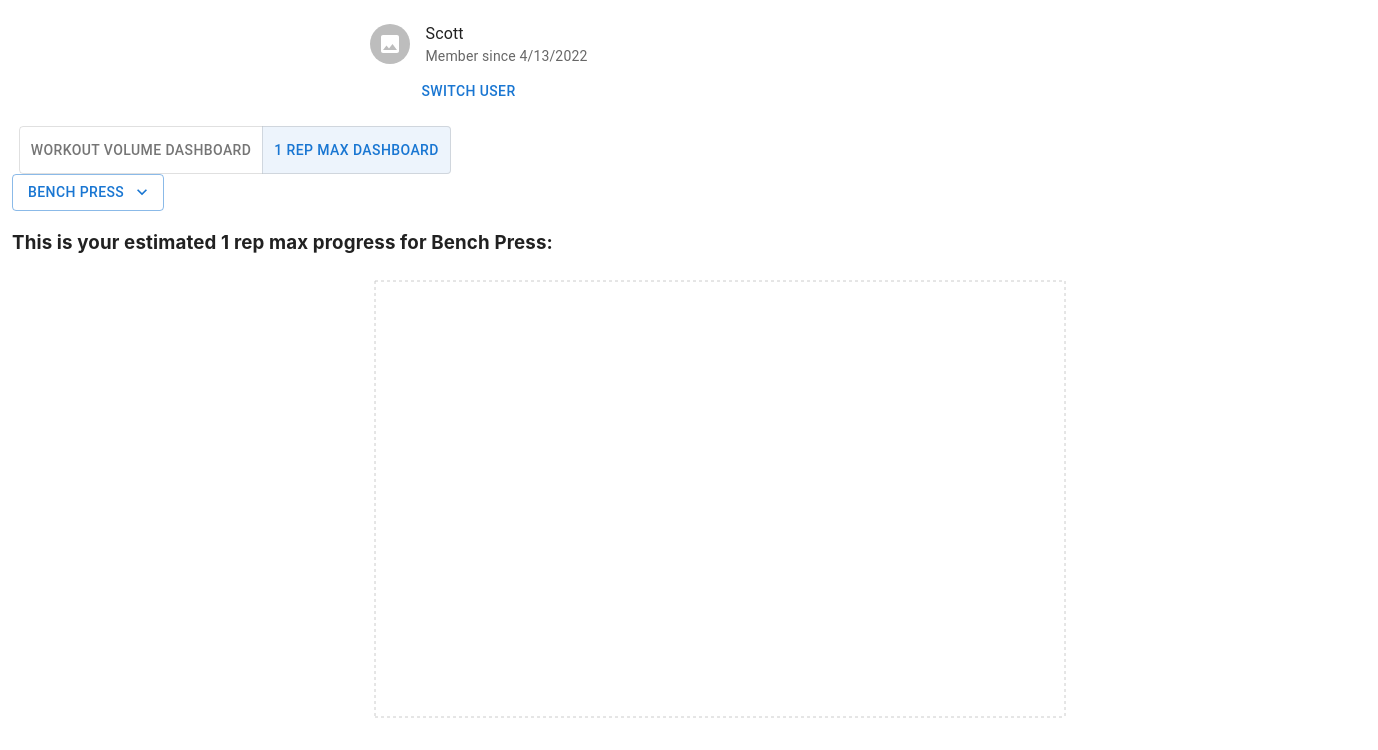
it: Volume dashboard tests › Legs 1 test
Step 1. Click the button with test id "dashboard-toggle-volume" → (141, 150), box [19, 126, 263, 174]
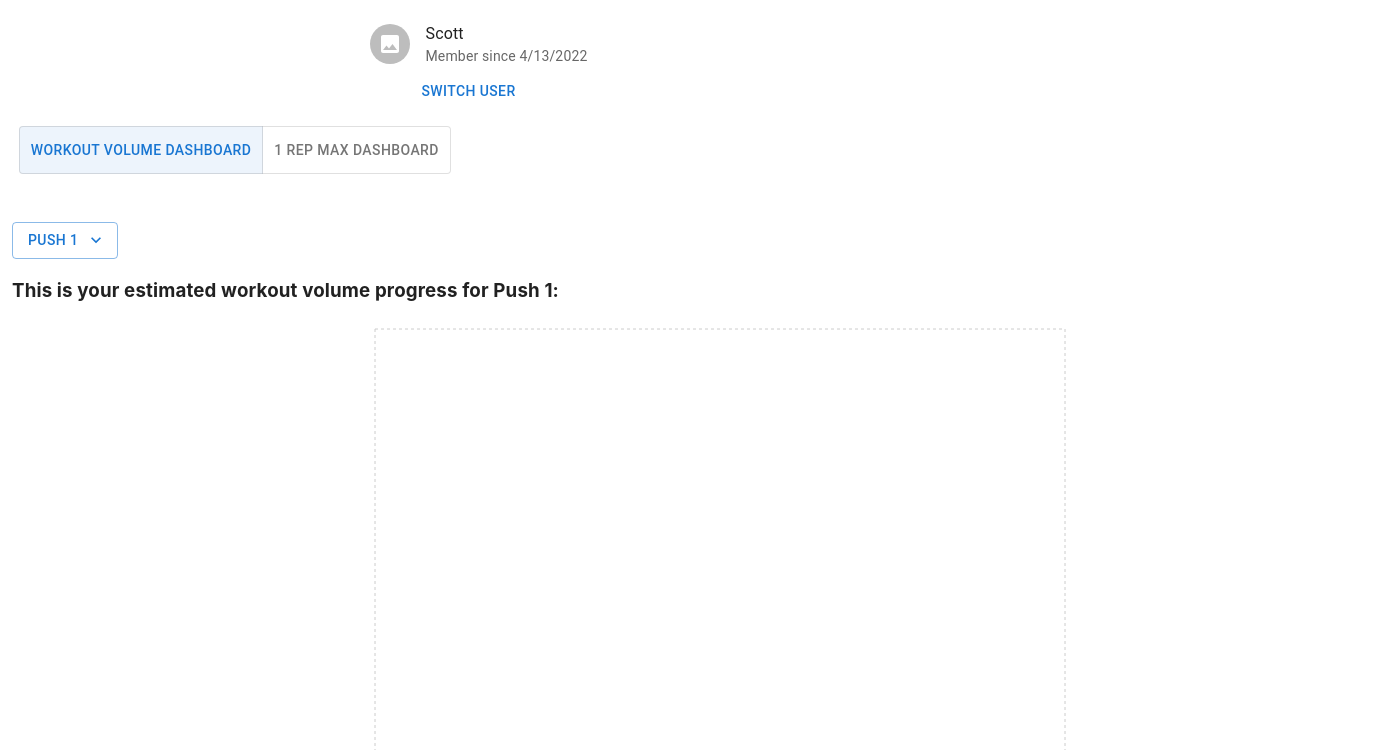
Step 2. Click the button with test id "split-options" → (65, 240), box [12, 222, 118, 258]
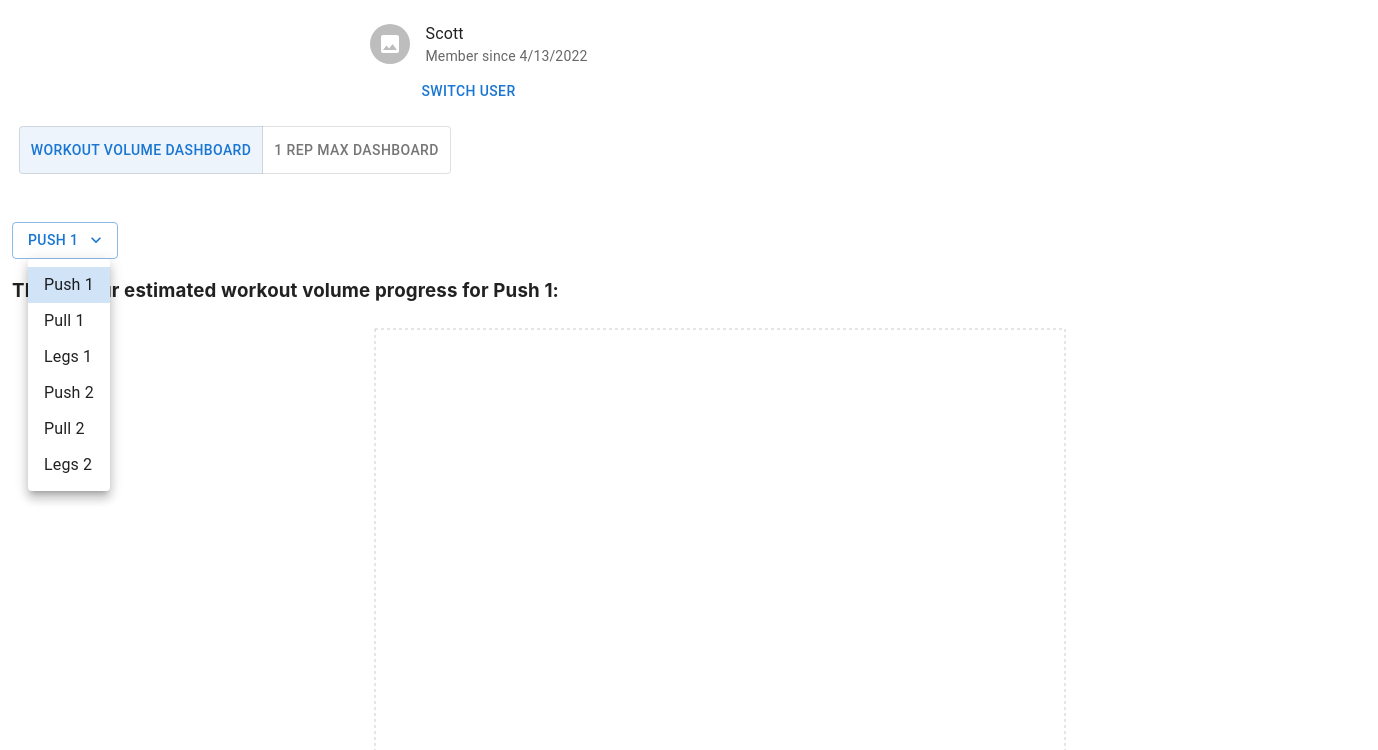
Step 3. Click the menu item with test id "split-options-Legs 1" → (68, 356), box [44, 347, 92, 366]
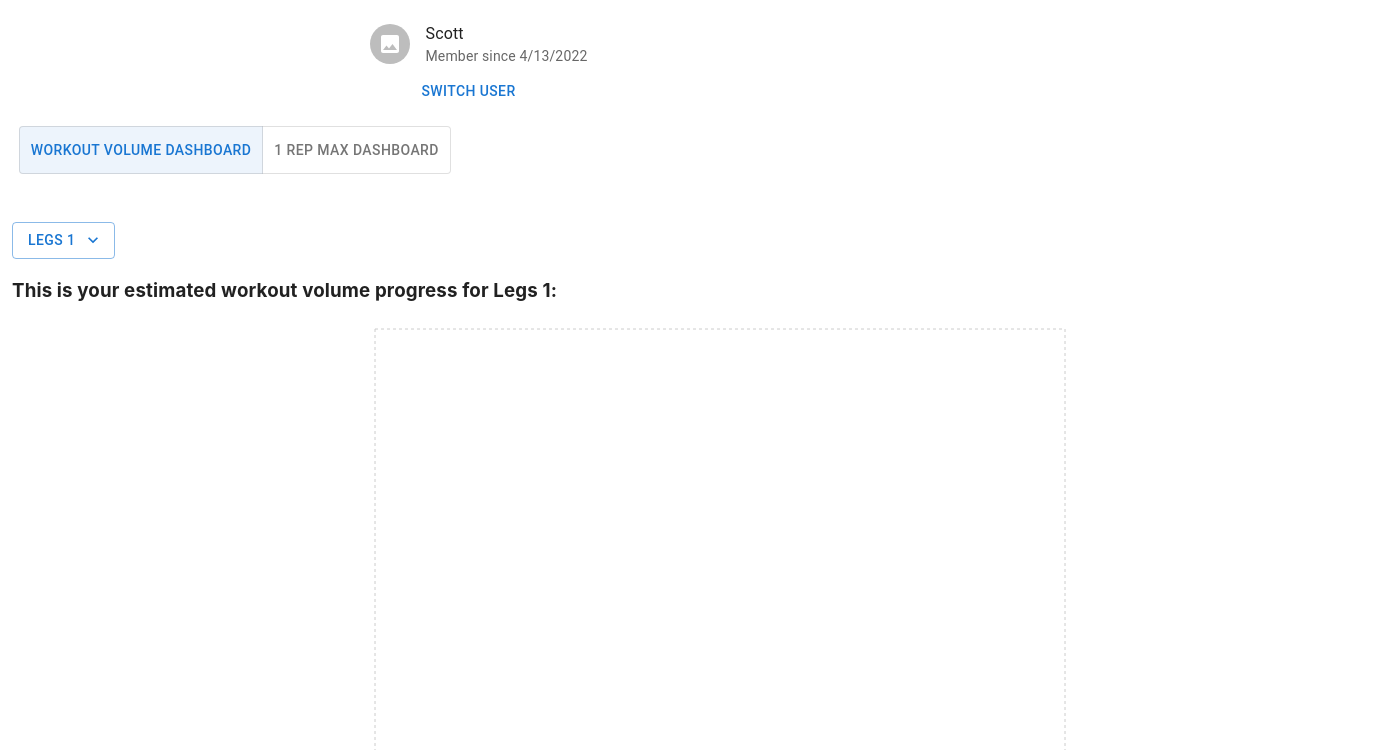
Now the button with test id "split-options" reads "Legs 1", box [12, 222, 115, 258]
